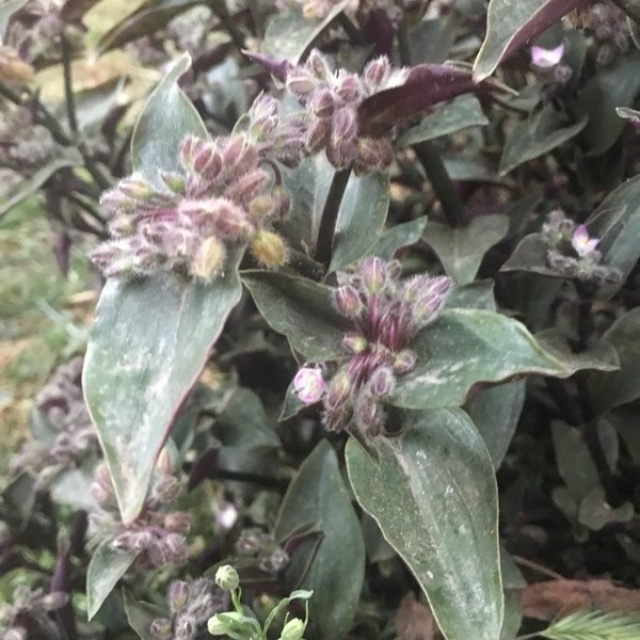obstacle: (91, 85, 540, 585)
